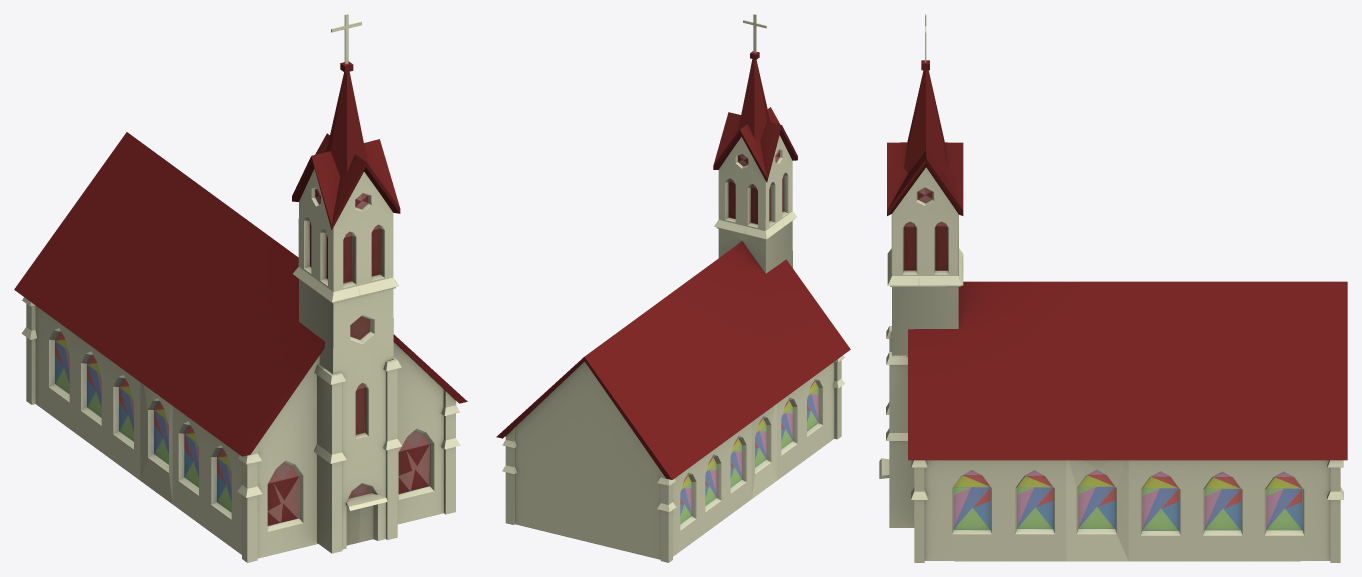
Rendered from church.glb.
The picture shows the model from 3 angles, left to right: view 1: azimuth 30°, elevation 25°; view 2: azimuth 150°, elevation 25°; view 3: azimuth 270°, elevation 25°; orthographic projection. The views are drawn at different scales.
Visible parts, largest first — view 1: Church_mesh; view 2: Church_mesh; view 3: Church_mesh.
Part boxes in pixels (x1,y1,x2,y2): Church_mesh: (14,14,467,562); Church_mesh: (496,14,850,562); Church_mesh: (879,14,1347,562).
Bounding box in the file's own units: 13.1 × 28.76 × 24.45.
Materials: 1 (1 with a texture image).
